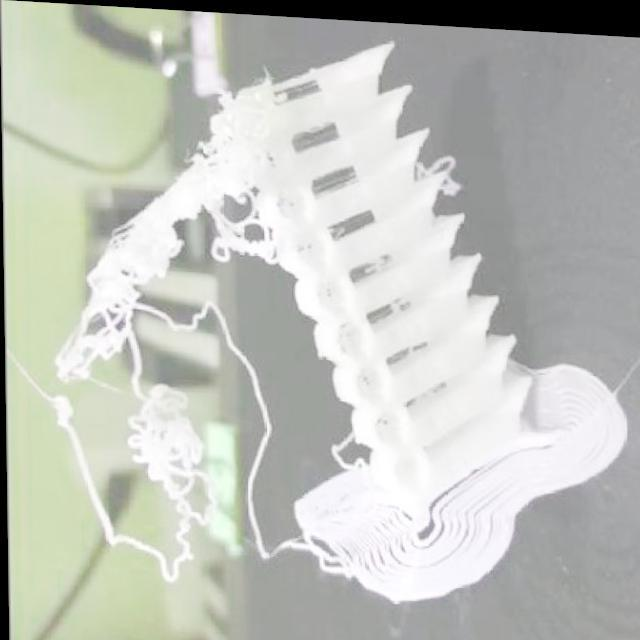spaghetti: (44, 78, 281, 583), (280, 519, 350, 578), (322, 419, 371, 481), (407, 147, 462, 195), (358, 248, 392, 273), (386, 288, 409, 312)
